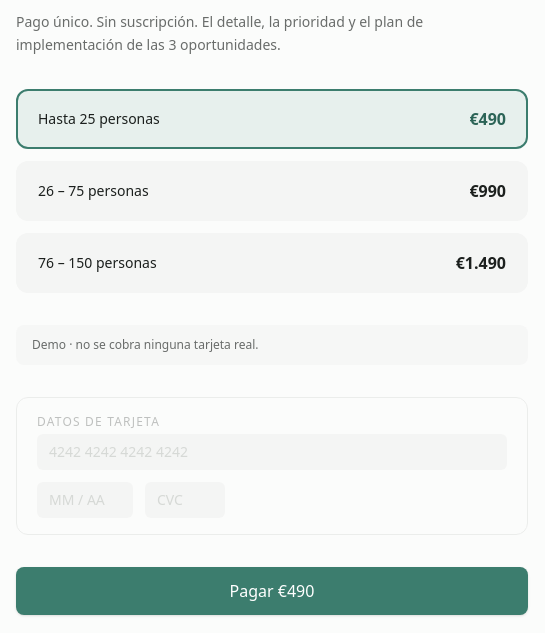
Test: payment flow › after clicking Pagar, success UI 'Radiografía desbloqueada' appears
(page scrolled)
Click the button "Pagar €490".
click(272, 590)  # box top-left (16, 566), bottom-right (528, 614)
(page scrolled)
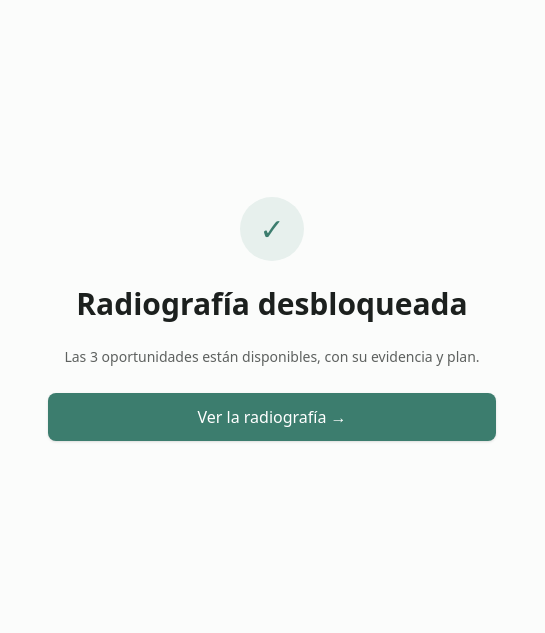
Expected: the heading "Radiografía desbloqueada" is shown, top-left (48, 285), bottom-right (496, 322)
